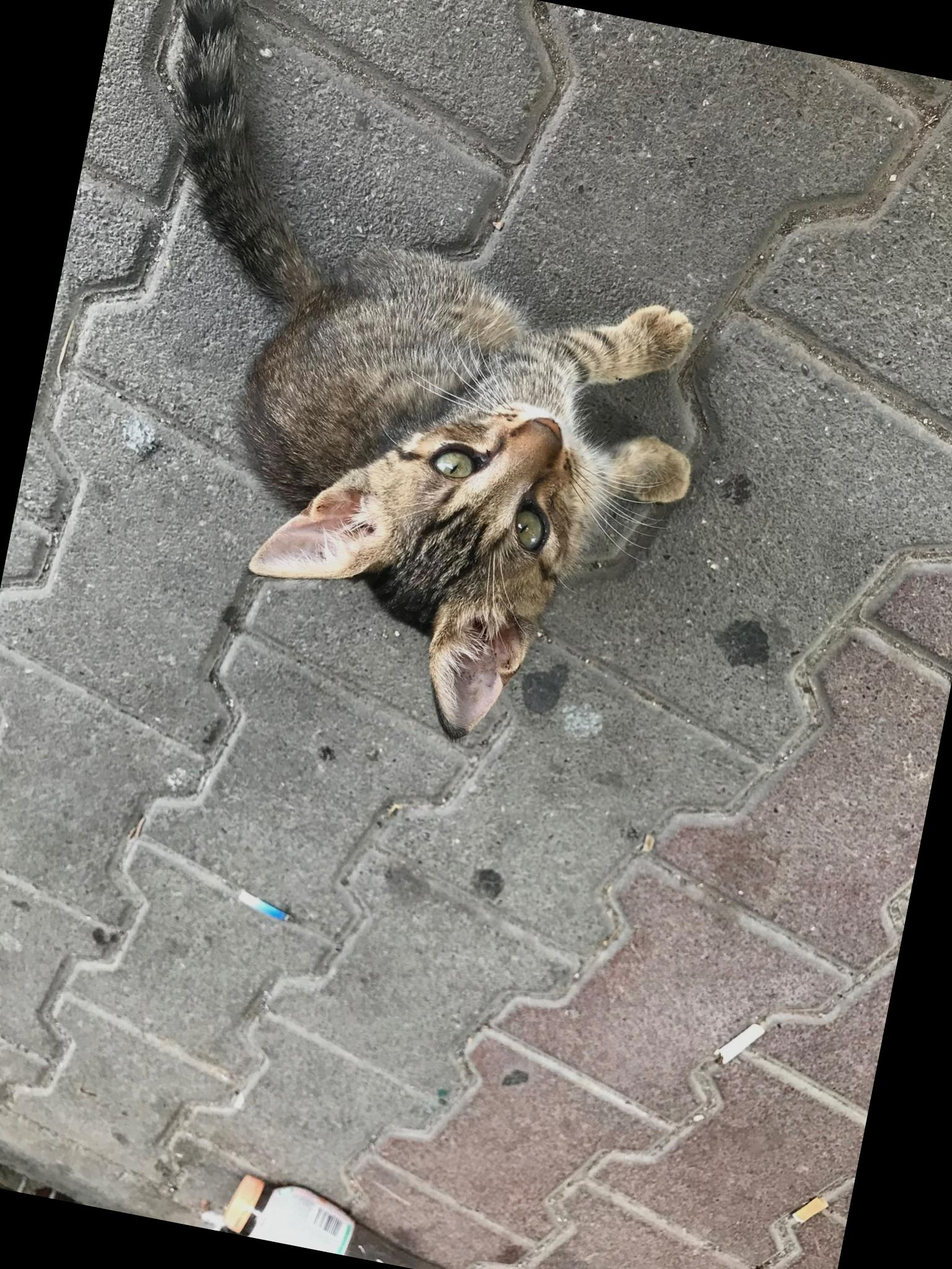macka: (36, 0, 780, 783)
